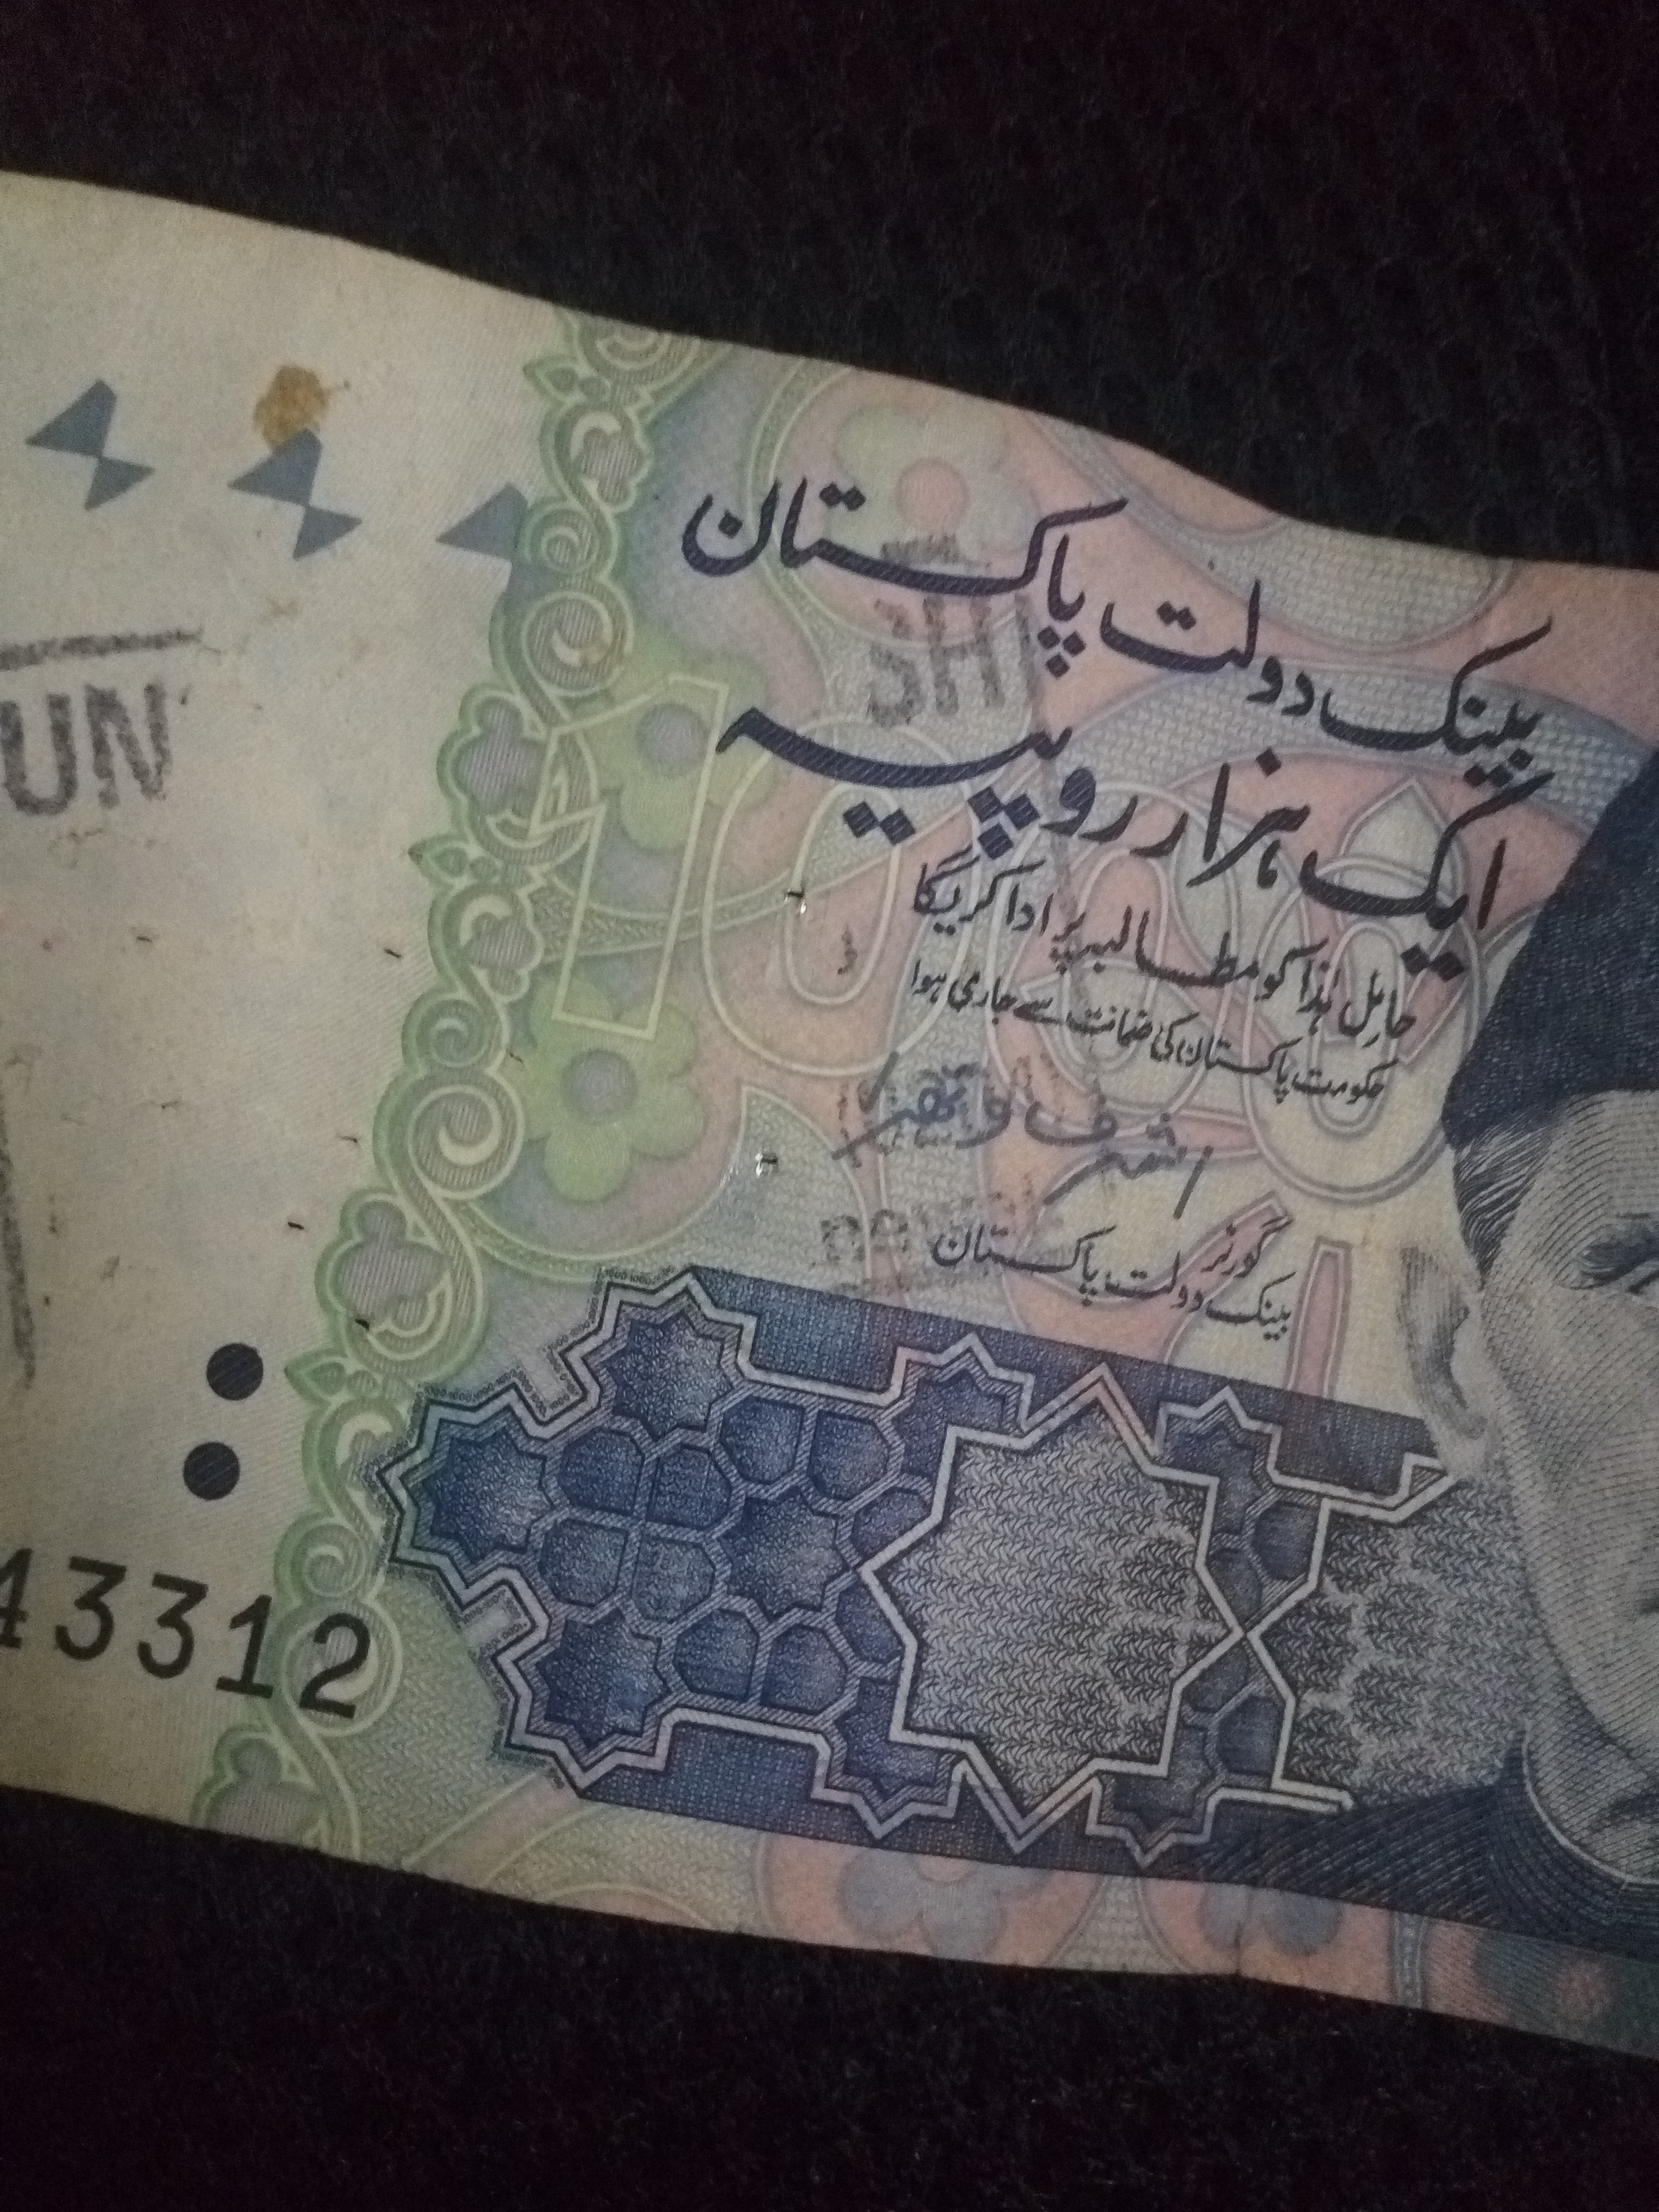1000 rupee: (0, 249, 1649, 2029), (132, 1280, 420, 1595)
